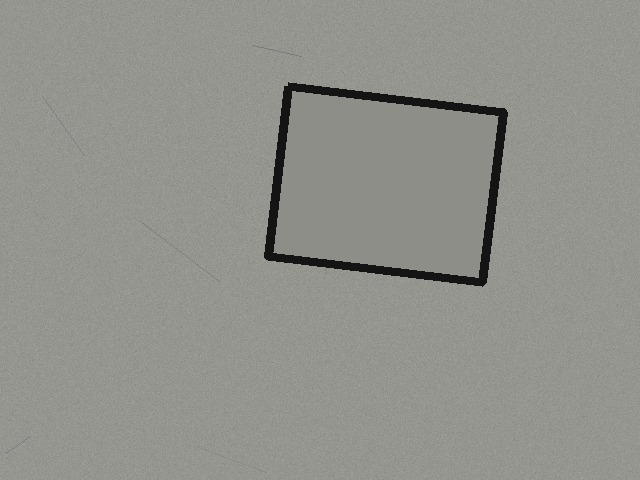parking_area: (268, 86, 503, 282)
